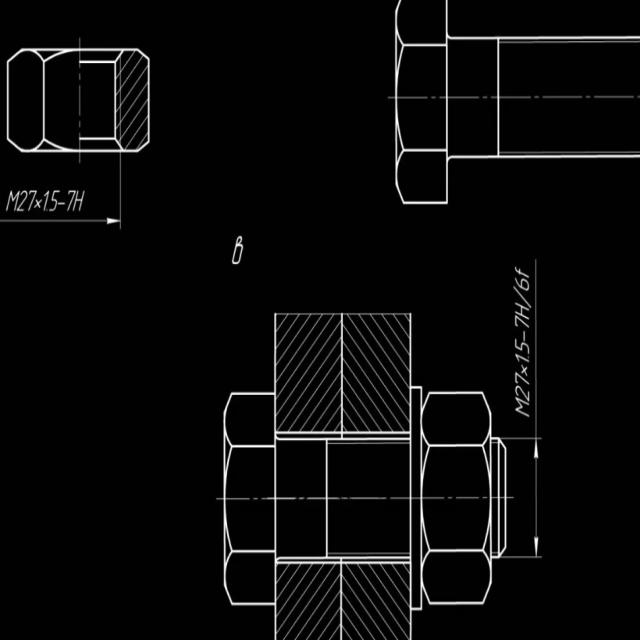marking_line: (0, 216, 119, 227), (532, 439, 541, 559)
numeric: (16, 188, 36, 219), (512, 372, 533, 401), (510, 339, 532, 364), (65, 186, 83, 213), (42, 187, 57, 213), (511, 318, 532, 335)
